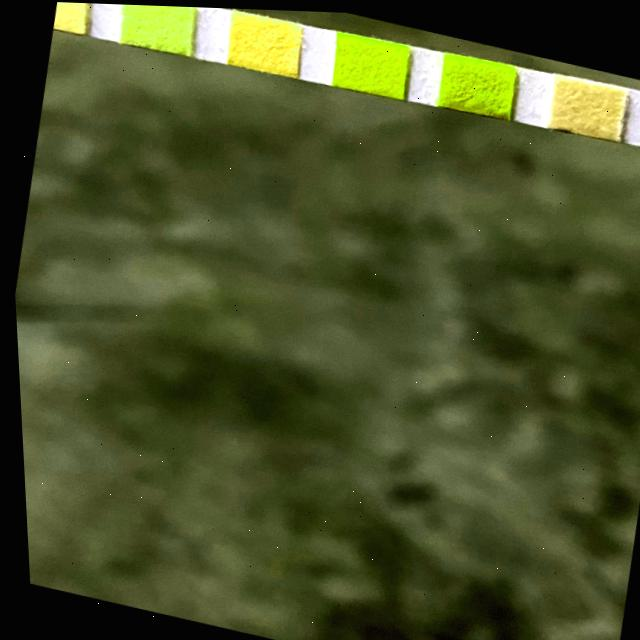Blood: (331, 29, 408, 94)
Ketone: (547, 72, 627, 134)
Protein: (119, 3, 195, 53)
SpGravity: (435, 50, 515, 114)
Urobilinogen: (51, 1, 87, 31)
pH: (226, 10, 300, 74)
